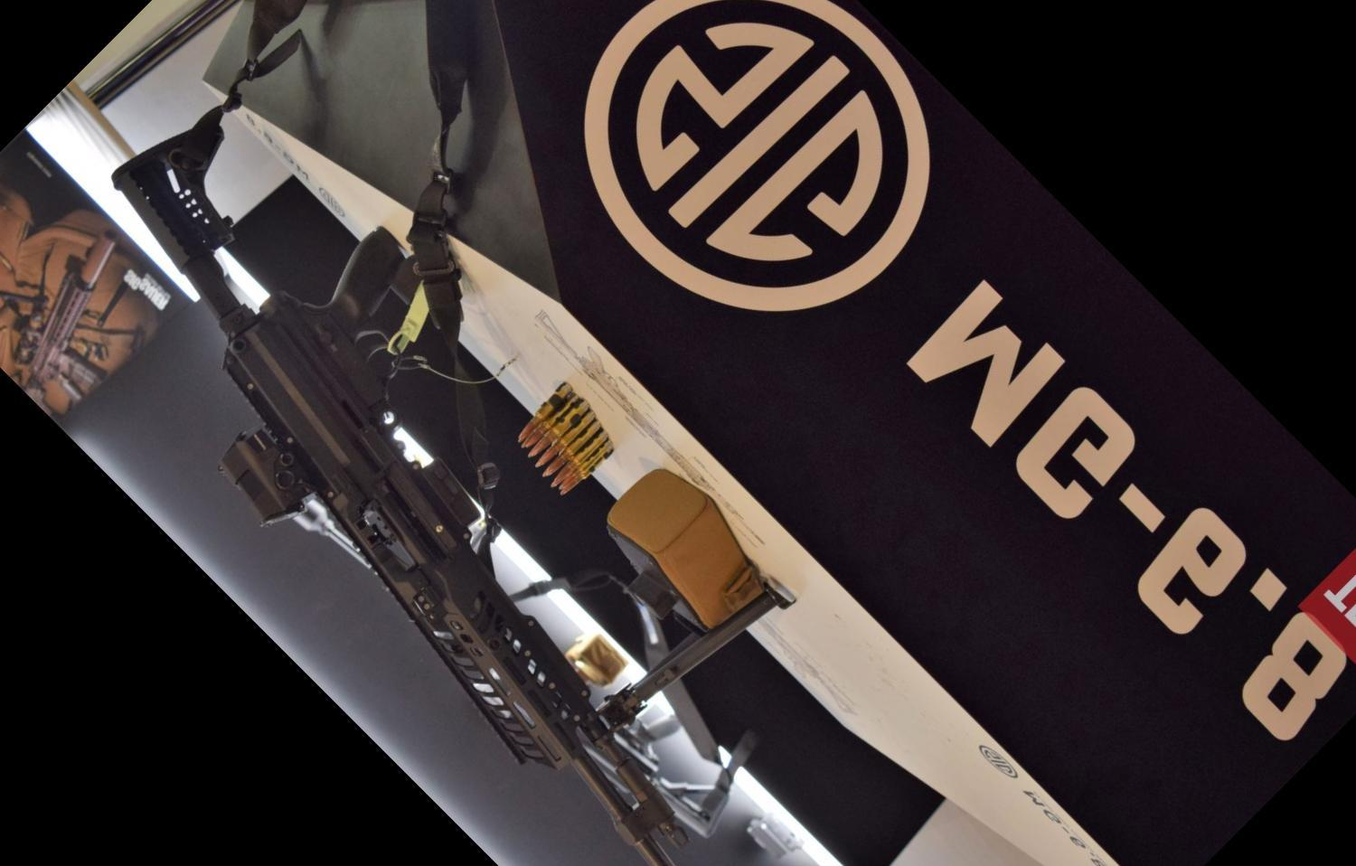larga: (109, 118, 790, 866)
